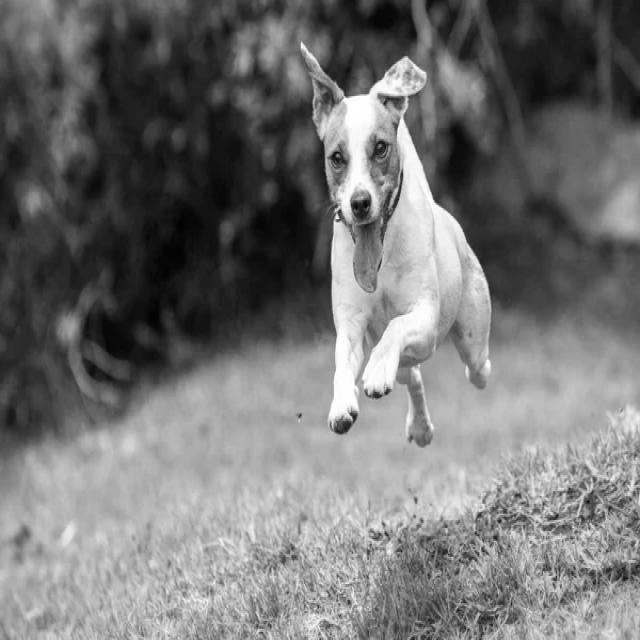Animal: (302, 43, 492, 446)
